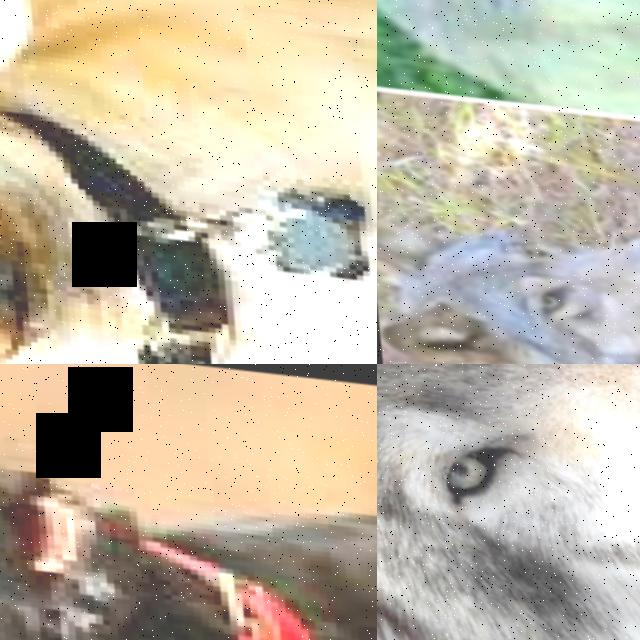dog: (0, 0, 377, 364), (0, 364, 377, 640)
wolf: (377, 364, 640, 640), (377, 132, 640, 364), (377, 0, 640, 166)
